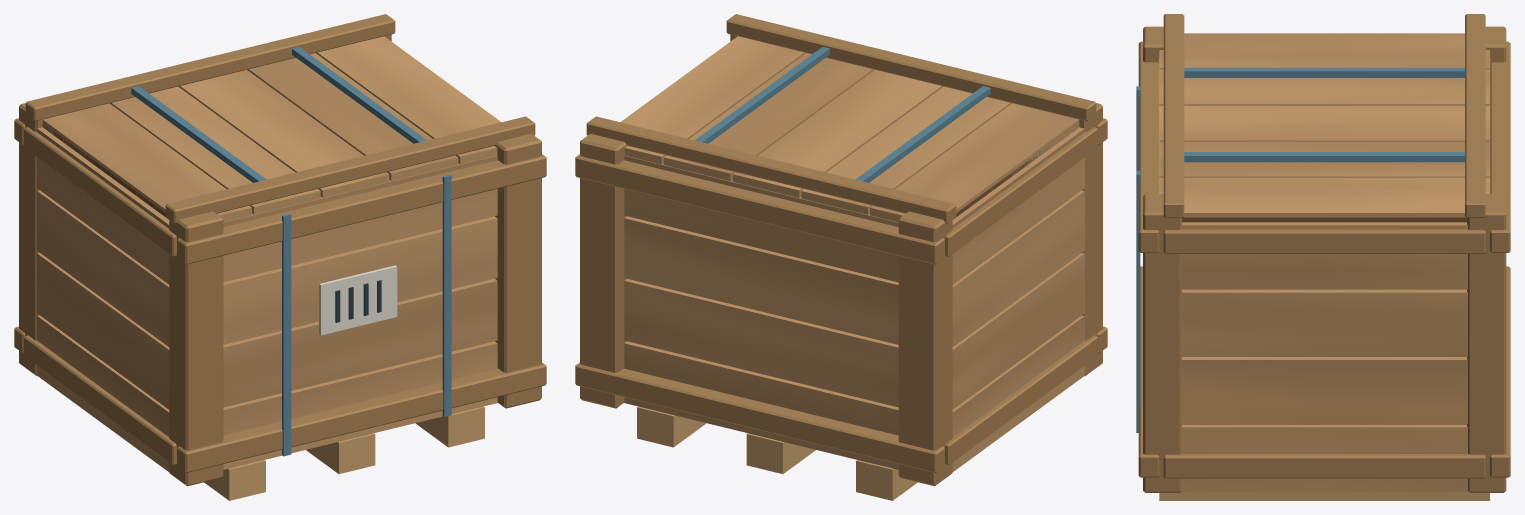
Rendered from stock-crate.glb.
The picture shows the model from 3 angles, left to right: view 1: azimuth 30°, elevation 25°; view 2: azimuth 150°, elevation 25°; view 3: azimuth 270°, elevation 25°; orthographic projection. The views are drawn at different scales.
Parts seen in each view (by area): view 1: stock-crate-planks-and-label, stock-crate-corner-posts-and-rails, stock-crate-straps, stock-crate-label-marks; view 2: stock-crate-planks-and-label, stock-crate-corner-posts-and-rails, stock-crate-straps; view 3: stock-crate-planks-and-label, stock-crate-corner-posts-and-rails, stock-crate-straps, stock-crate-inner-backing.
Part boxes in pixels (<box>): stock-crate-planks-and-label: <box>36,36,501,500</box>; stock-crate-corner-posts-and-rails: <box>14,14,546,486</box>; stock-crate-straps: <box>131,47,451,456</box>; stock-crate-label-marks: <box>335,280,381,322</box>; stock-crate-planks-and-label: <box>620,36,1085,500</box>; stock-crate-corner-posts-and-rails: <box>575,14,1107,486</box>; stock-crate-straps: <box>695,47,990,182</box>; stock-crate-planks-and-label: <box>1159,33,1490,500</box>; stock-crate-corner-posts-and-rails: <box>1138,14,1510,492</box>; stock-crate-straps: <box>1136,67,1464,432</box>; stock-crate-inner-backing: <box>1182,217,1466,424</box>.
Size of the model in its own units: 2.2 by 1.74 by 1.81.
